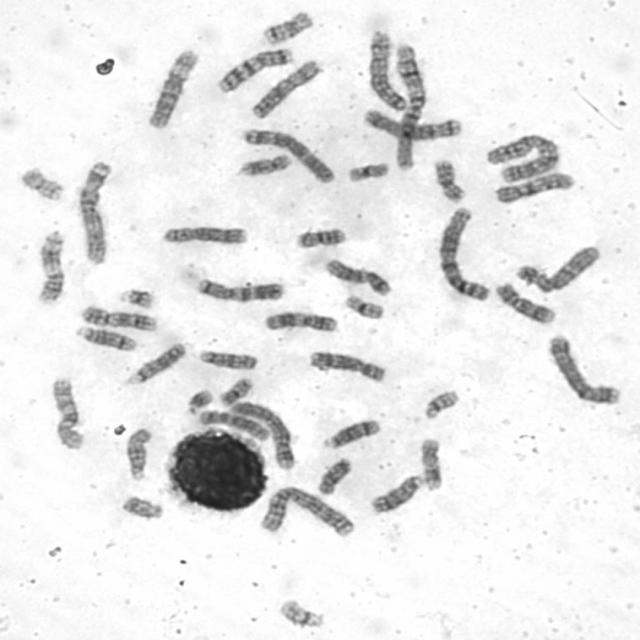A1: (433, 204, 492, 304), (389, 39, 428, 173)
A2: (255, 482, 358, 540), (482, 130, 562, 184)
A3: (237, 124, 336, 185), (72, 156, 115, 266)
B4: (543, 332, 622, 406), (227, 398, 296, 472)
B5: (358, 105, 463, 141), (365, 27, 409, 112)
C10: (489, 168, 576, 206), (47, 374, 86, 451)
C11: (31, 227, 67, 305), (260, 308, 339, 334)
C12: (321, 255, 393, 298), (196, 408, 275, 447)
C6: (142, 44, 201, 130), (512, 241, 602, 295)
C7: (212, 44, 294, 94), (192, 274, 286, 303)
C8: (304, 347, 388, 385), (158, 222, 250, 246)
C9: (491, 279, 557, 325), (75, 301, 160, 332)
D13: (122, 338, 186, 386), (366, 470, 426, 516)
D14: (318, 416, 382, 450), (71, 323, 138, 353)
D15: (121, 424, 152, 482), (194, 346, 259, 372)
E16: (429, 156, 467, 204), (291, 224, 348, 250)
E17: (415, 434, 445, 492), (235, 150, 292, 178)
E18: (252, 10, 318, 44), (312, 454, 354, 496)
F19: (340, 292, 385, 321), (343, 158, 391, 184)
F20: (15, 163, 66, 203), (215, 373, 254, 408)
G21: (114, 284, 156, 311), (180, 385, 214, 416)
G22: (274, 595, 325, 630), (420, 386, 461, 421)
X: (246, 56, 324, 120)
Y: (116, 492, 164, 522)
